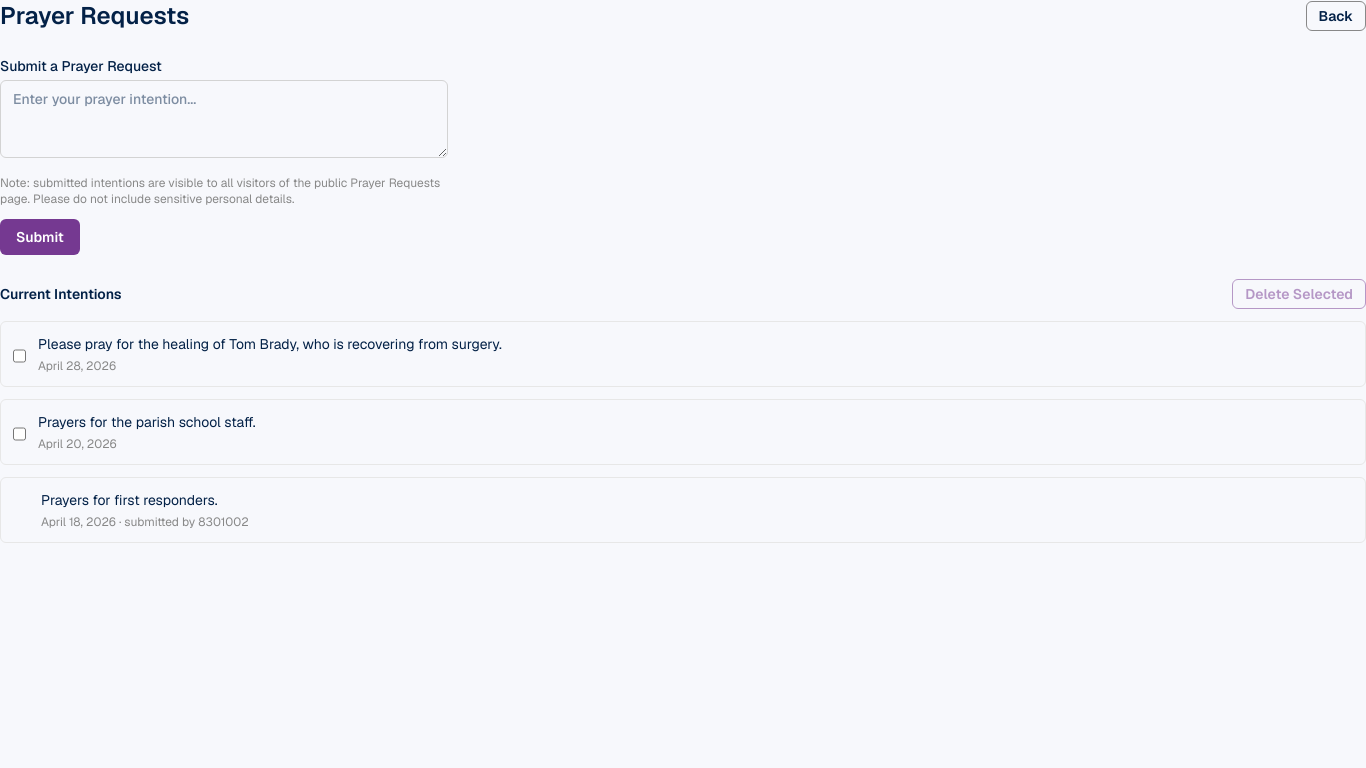
Test: PrayerRequests › refreshes the list after partial failure so successfully-deleted items disappear
The width and height of the screenshot is (1366, 768).
Check: the text "Tom Brady" is shown, box [38,335,502,353]
Click the checkbox named "Select prayer request pr-001" at (20, 356), box [13,338,26,374]
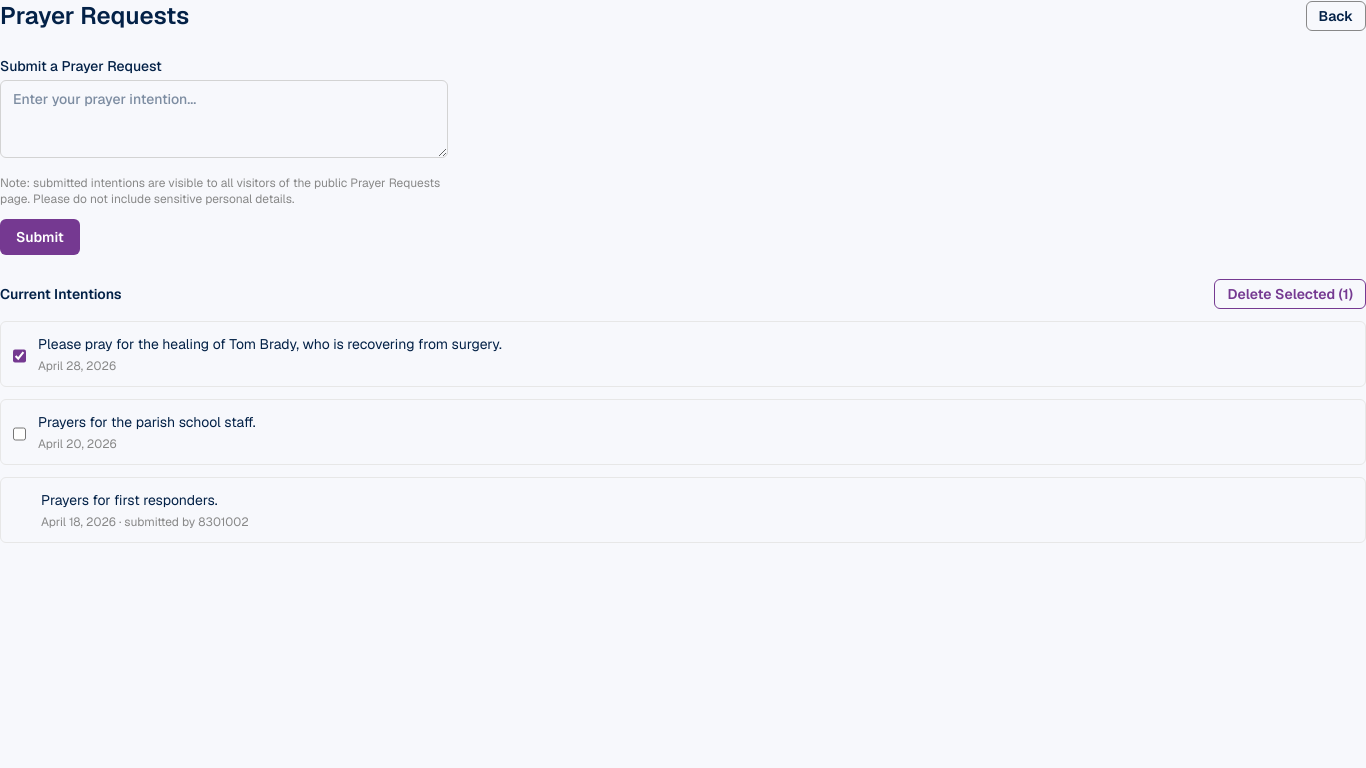
Click the checkbox named "Select prayer request pr-002" at (20, 434), box [13,416,26,452]
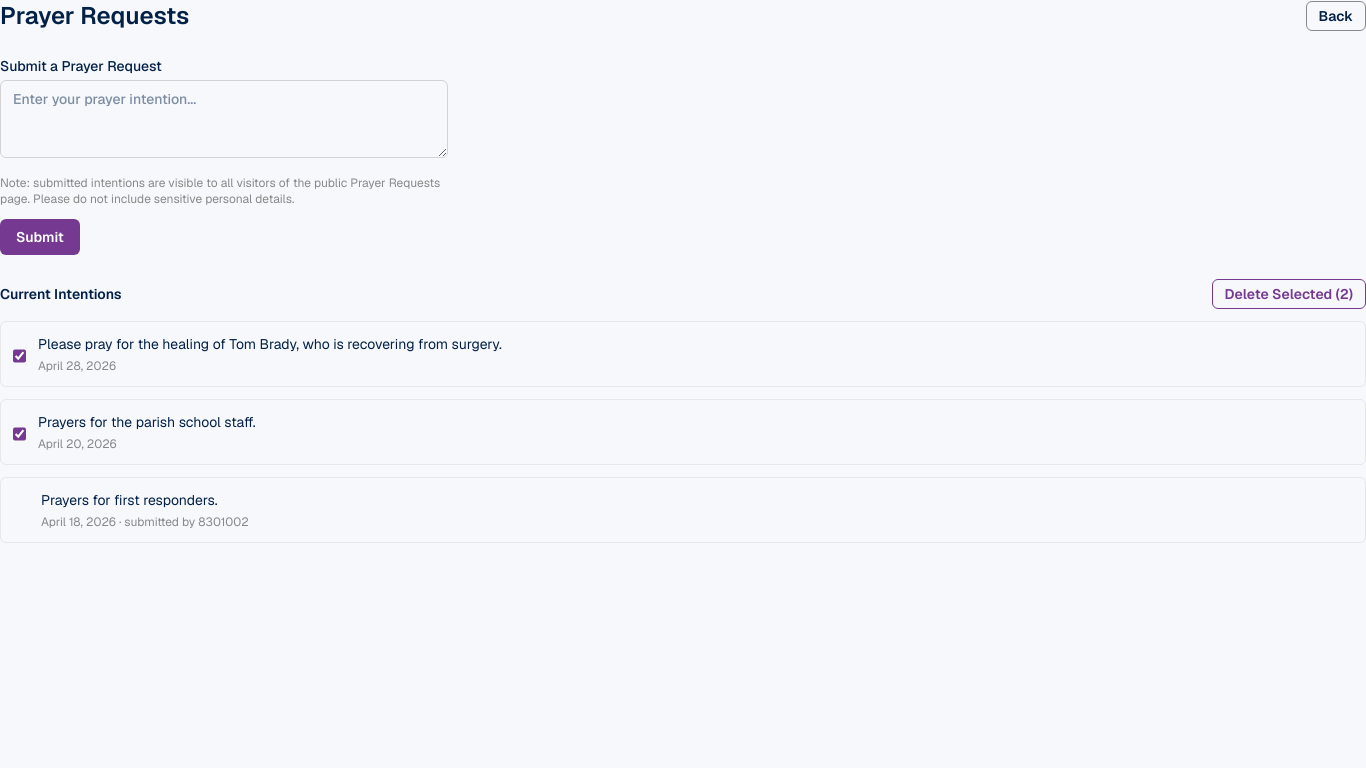
Click the button "Delete Selected (2)" at (1289, 294), box [1212,279,1365,309]
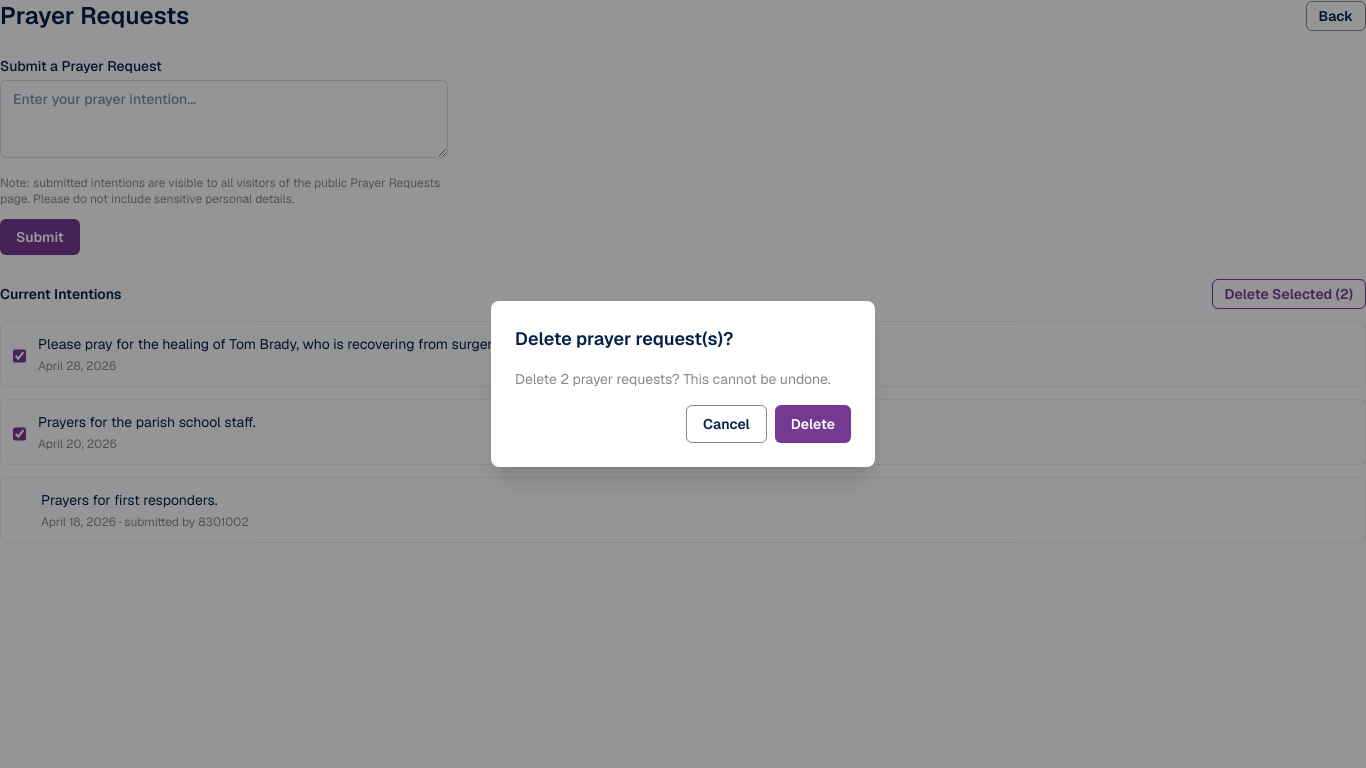
Click the button "Delete" at (813, 424), box [775,405,851,443]
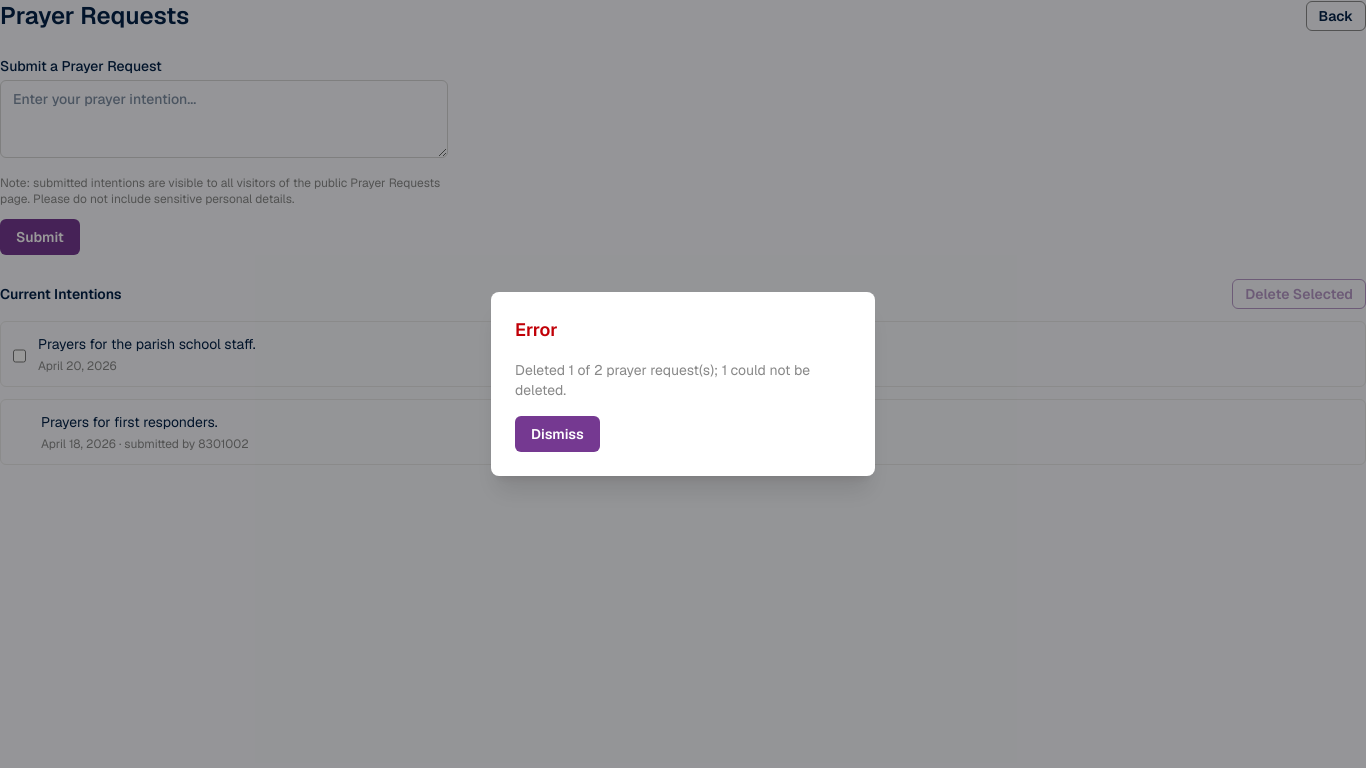
Check: the text "Prayers for the parish school staff." is shown, box [38,335,256,353]
Check: the text "Deleted 1 of 2 prayer request(s); 1 could not be deleted." is shown, box [515,360,851,400]
Check: the text "Tom Brady" is gone
